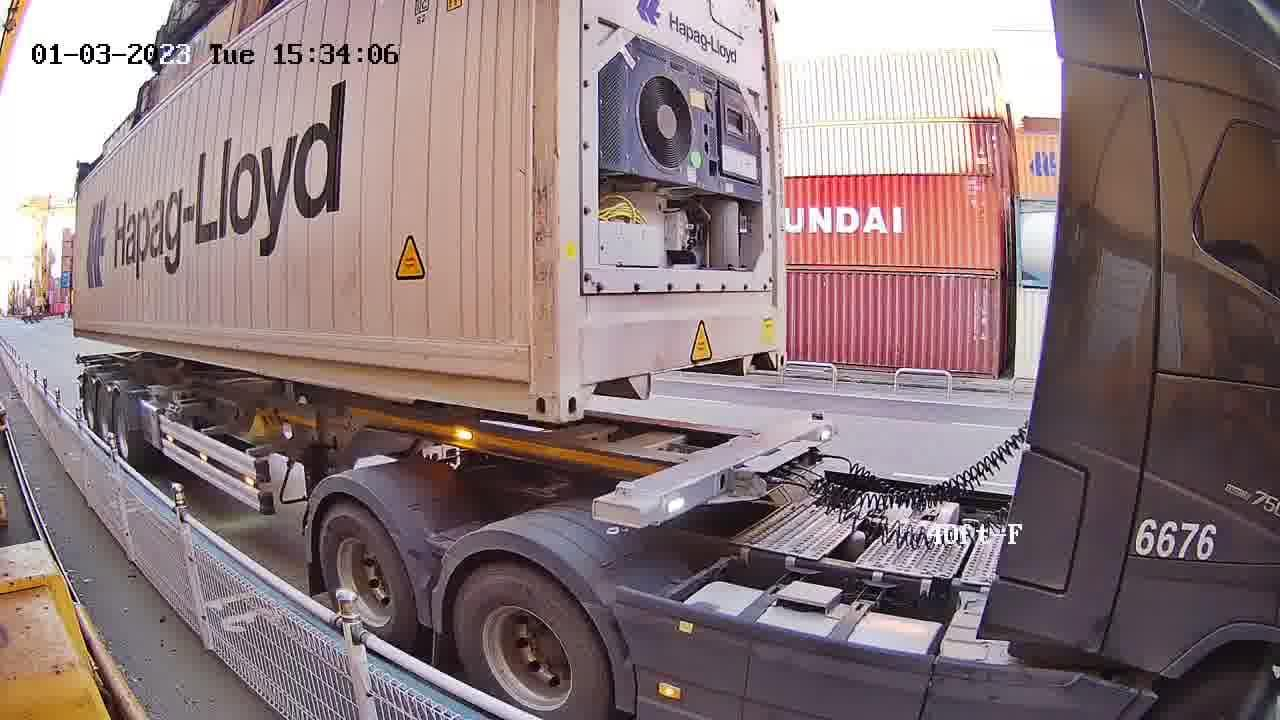Chassis: (593, 414, 831, 527)
Hole_L: (560, 358, 614, 423)
Hole_R: (499, 360, 558, 422), (756, 335, 787, 371)
Tire: (455, 568, 611, 718), (317, 505, 414, 644)
